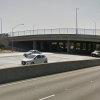Bridge: (13, 17, 91, 49)
